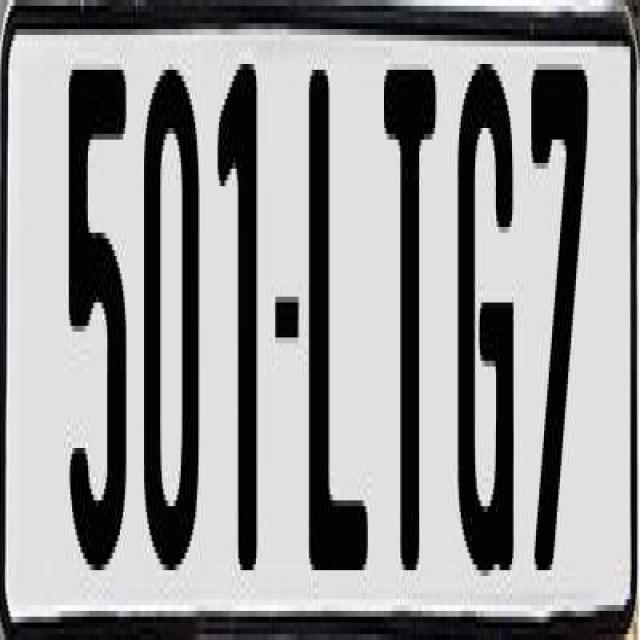0: (142, 58, 197, 576)
1: (212, 64, 262, 594)
5: (64, 58, 126, 588)
7: (530, 52, 594, 588)
G: (452, 64, 510, 611)
L: (309, 70, 376, 600)
T: (381, 70, 437, 600)
